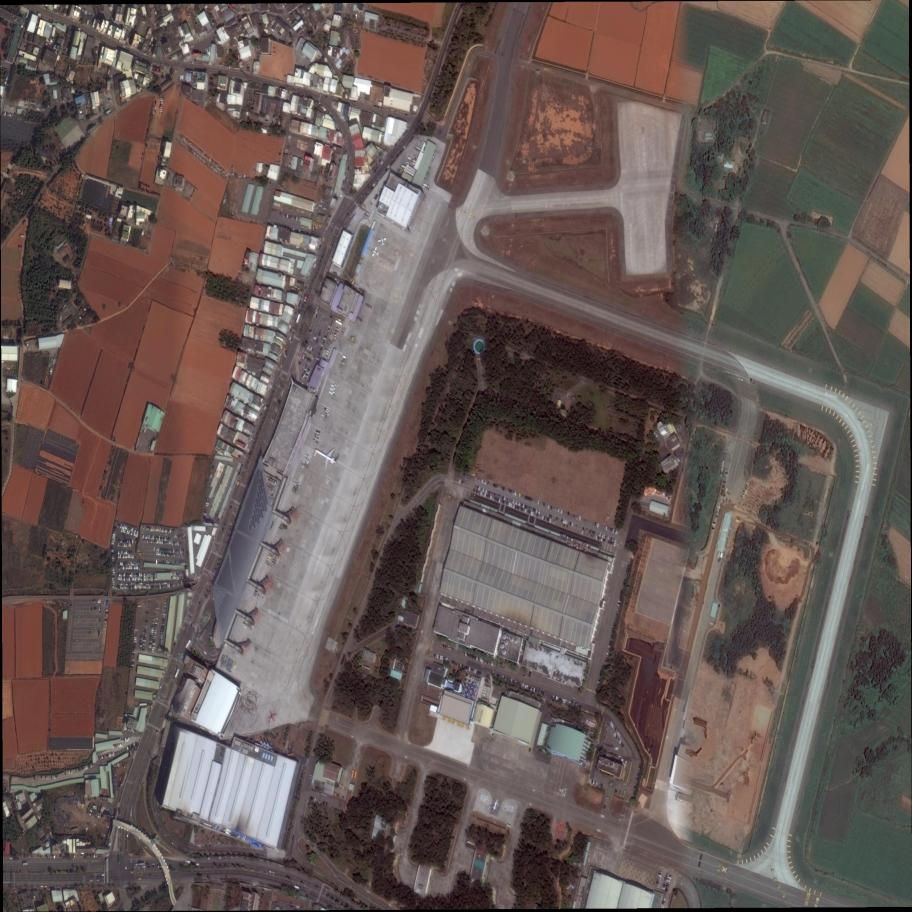large-vehicle: (185, 640, 192, 649), (175, 669, 180, 678), (118, 855, 121, 864)
plane: (308, 438, 343, 476), (489, 798, 503, 815), (369, 246, 381, 260), (377, 236, 388, 247)
